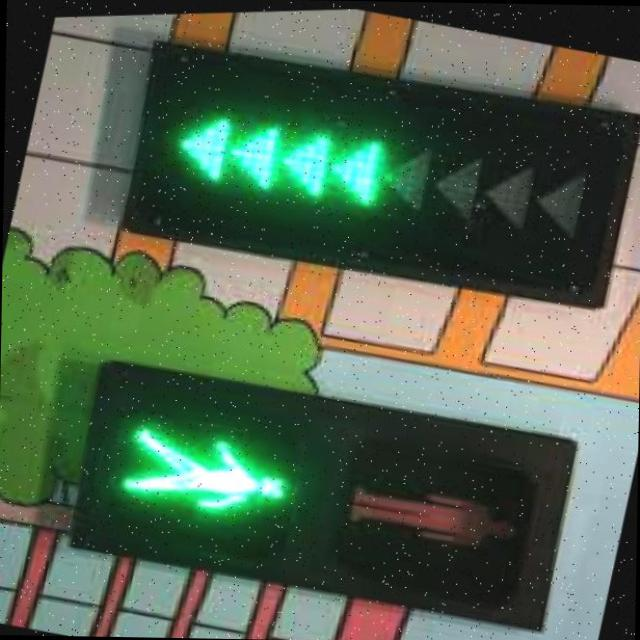green_light: (92, 391, 298, 550)
